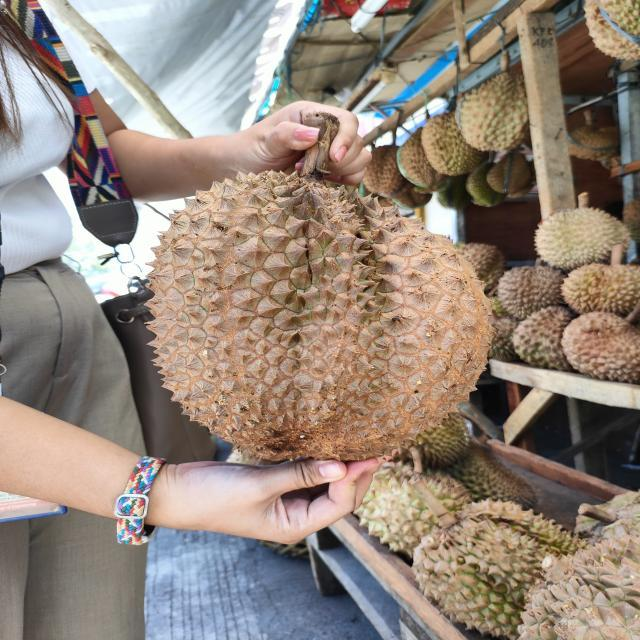mature: (144, 171, 496, 463)
